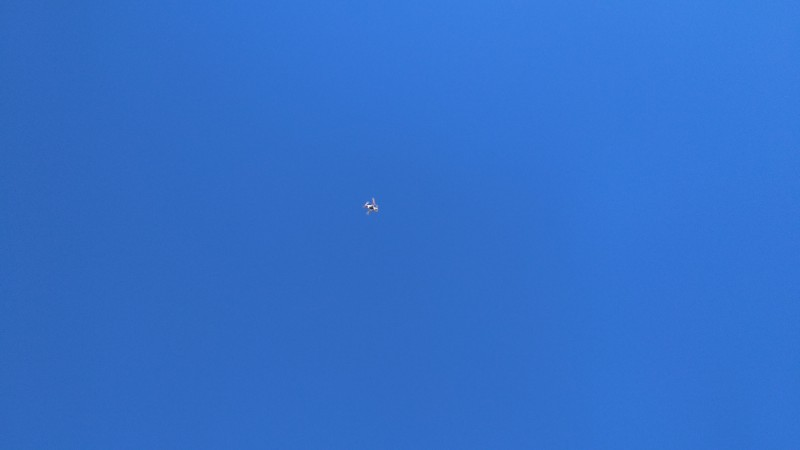drone: (363, 196, 380, 214)
